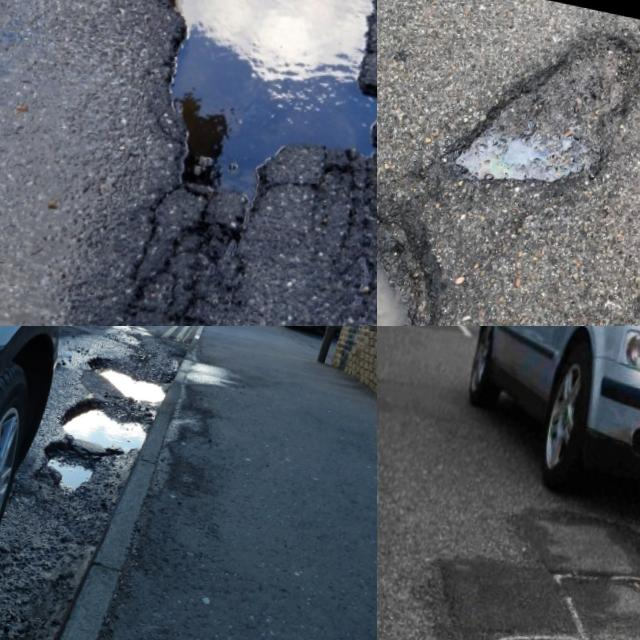Potholes: (0, 0, 377, 270), (0, 326, 280, 581), (431, 0, 640, 227), (377, 117, 510, 326)
